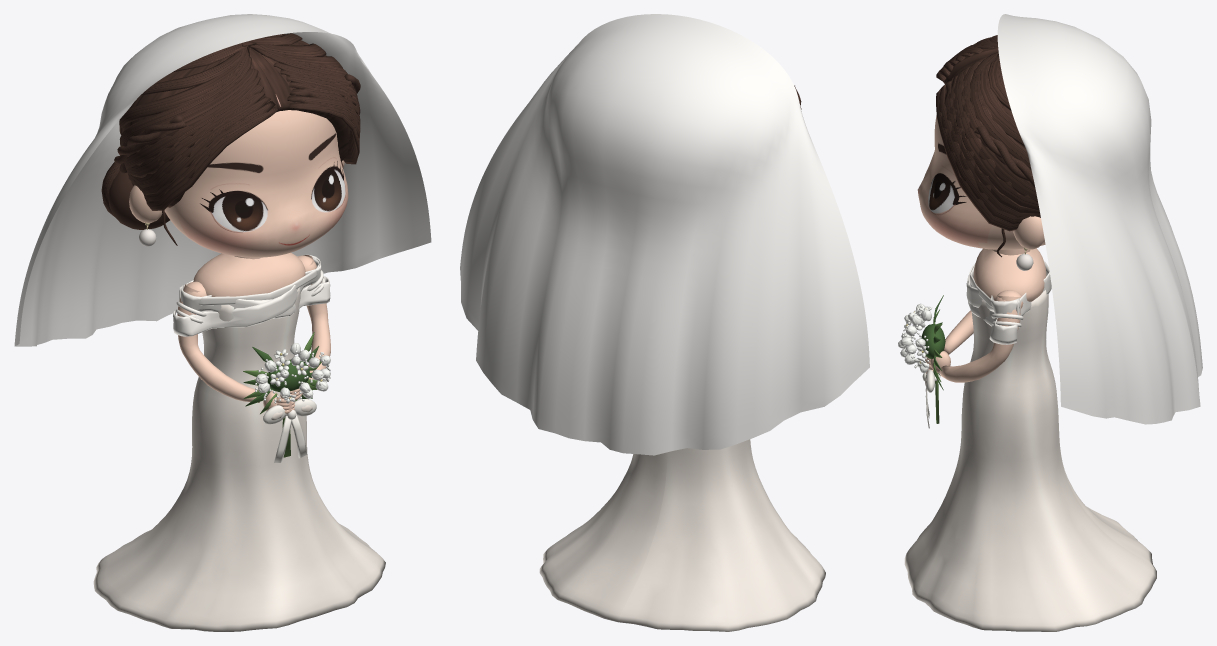
File: Bride.fbx
The picture shows the model from 3 angles, left to right: view 1: azimuth 30°, elevation 25°; view 2: azimuth 150°, elevation 25°; view 3: azimuth 270°, elevation 25°; orthographic projection. The views are drawn at different scales.
Parts seen in each view (by area): view 1: Bride; view 2: Bride; view 3: Bride.
Part boxes in pixels (x1,y1,x2,y2): Bride: [14, 14, 431, 631]; Bride: [460, 14, 869, 631]; Bride: [898, 14, 1202, 631].
Bounding box in the file's own units: 1.13 × 1.43 × 0.7382.
Materials: 2 (2 with a texture image).
